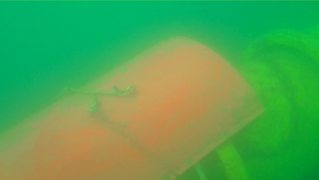leak: (1, 35, 264, 180)
pipe: (174, 27, 318, 180)
